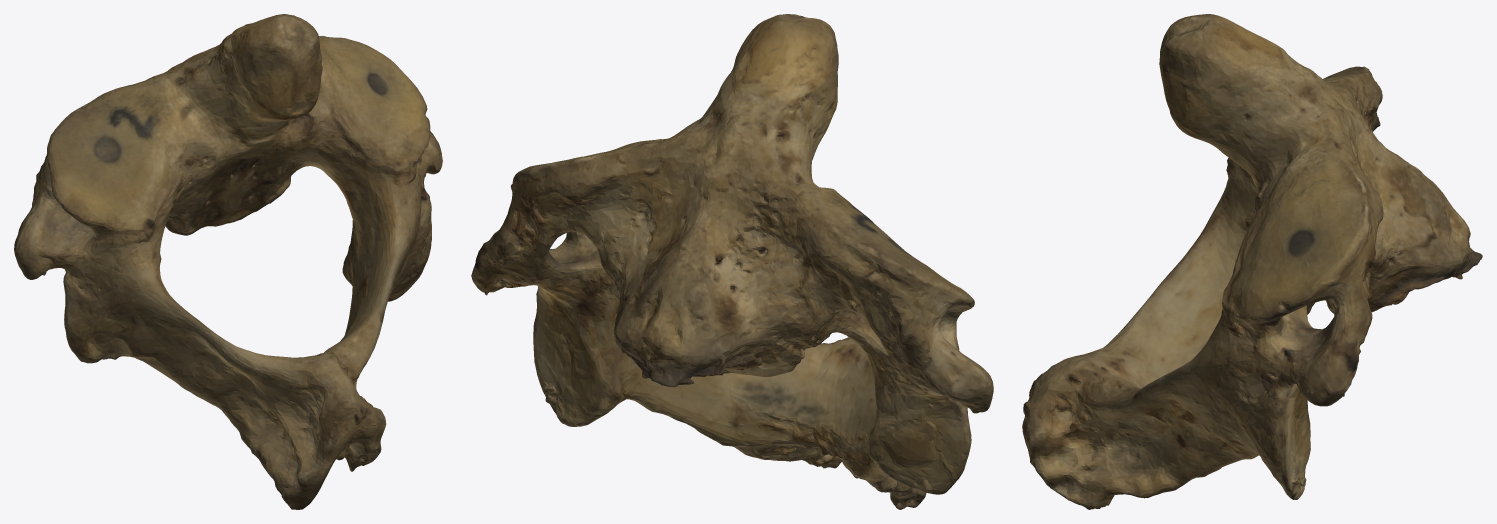
The model's file is sheya_02_LP.obj.
3 views of the same model, side by side, from view 1: azimuth 30°, elevation 25°; view 2: azimuth 150°, elevation 25°; view 3: azimuth 270°, elevation 25° (orthographic). The views are drawn at different scales.
Parts seen in each view (by area): view 1: 2P_f; view 2: 2P_f; view 3: 2P_f.
Boxes of the visible parts, box(x1,y1,x2,y2) form: 2P_f: box(14, 14, 442, 509); 2P_f: box(471, 14, 993, 509); 2P_f: box(1022, 14, 1482, 509).
Size of the model in its own units: 53.8 by 52.84 by 43.94.
Materials: 1 (1 with a texture image).
